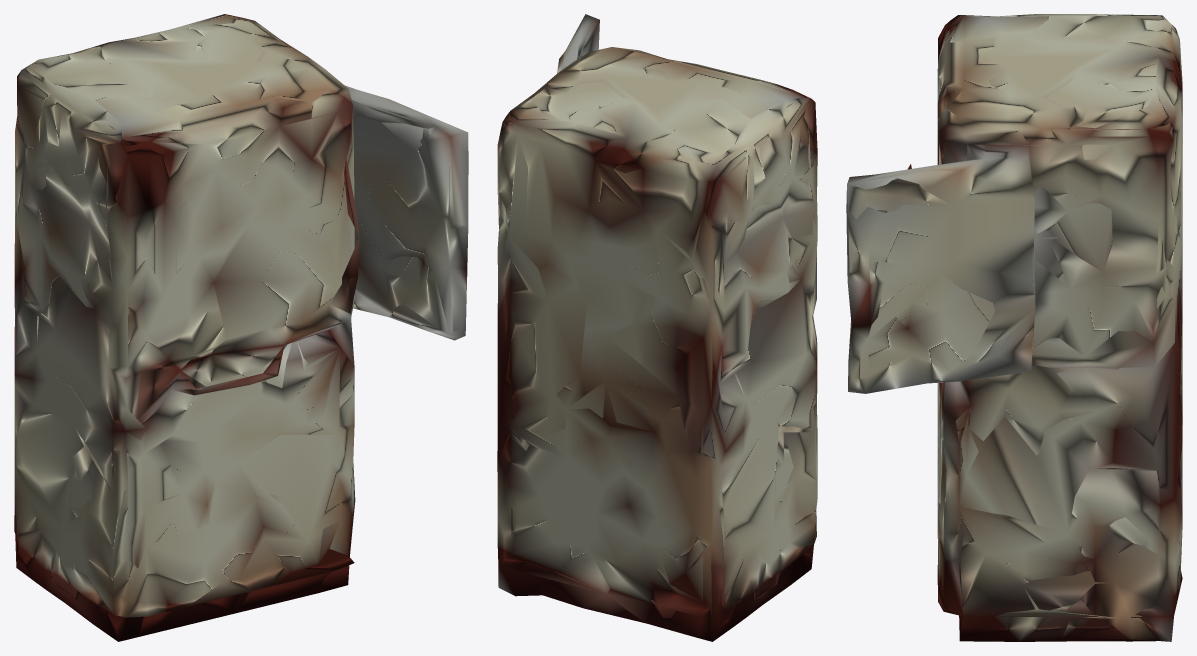
The model's file is gen3d-rusty-fridge-lod0.glb.
3 renders of one model, left to right at view 1: azimuth 30°, elevation 25°; view 2: azimuth 150°, elevation 25°; view 3: azimuth 270°, elevation 25°, orthographic. The views are drawn at different scales.
Visible parts, largest first — view 1: part_0; view 2: part_0; view 3: part_0.
Part boxes in pixels (<box>): part_0: <box>14,14,468,641</box>; part_0: <box>497,14,817,641</box>; part_0: <box>846,14,1182,641</box>.
Size of the model in its own units: 0.6176 by 0.9976 by 0.5783.
